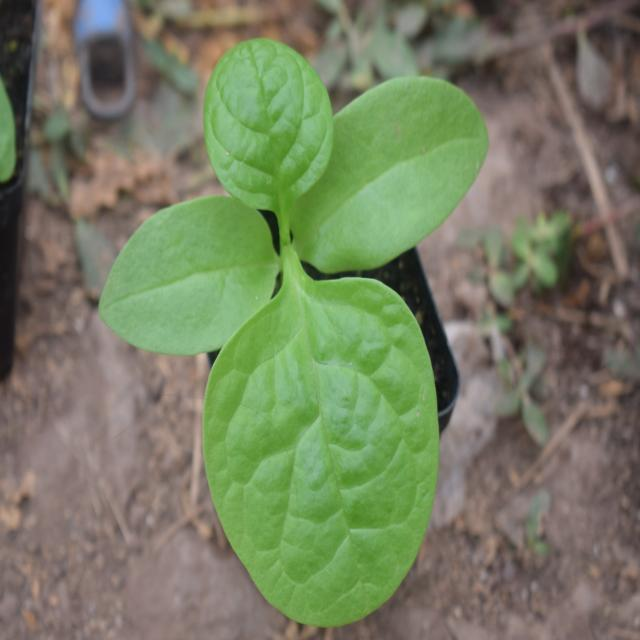Ceylon spinach: (129, 25, 483, 598)
